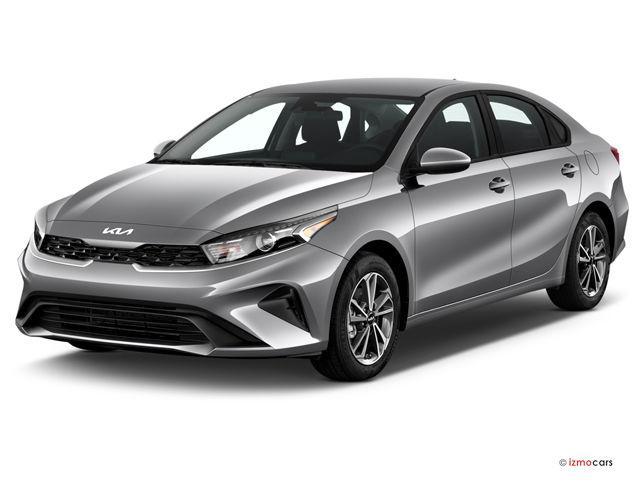kia: (15, 77, 630, 381)
